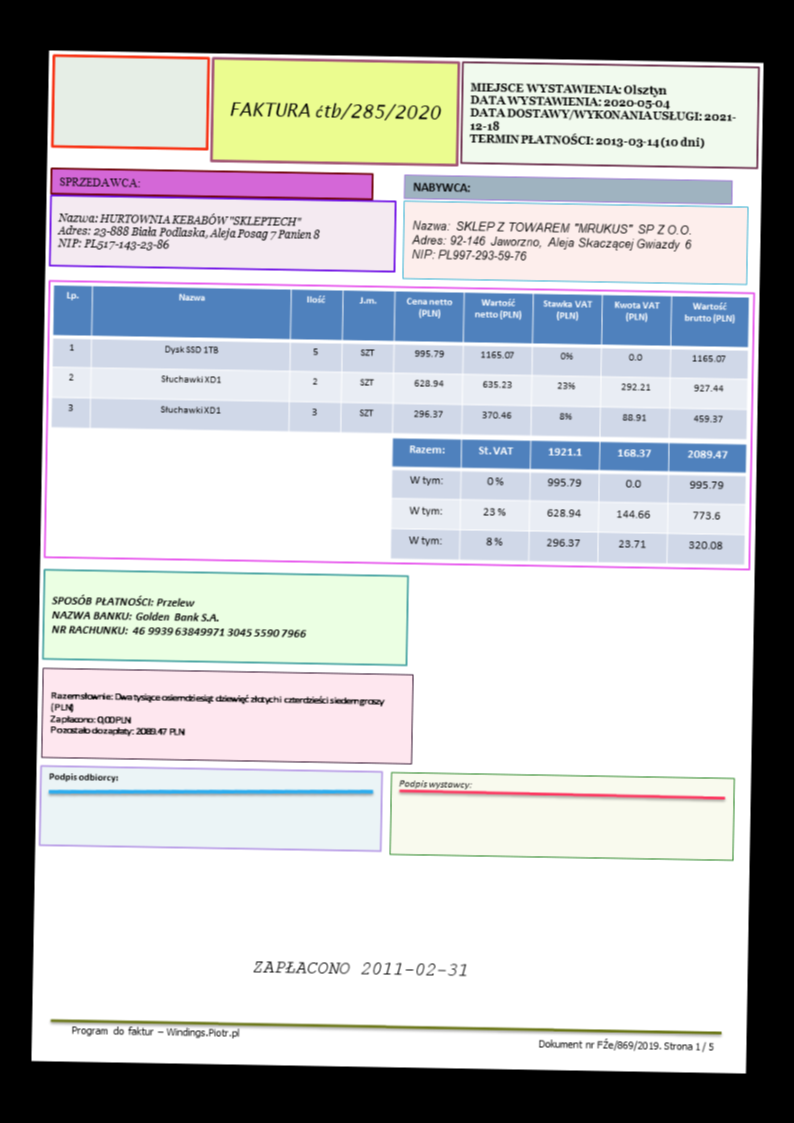Table: (49, 284, 748, 440), (388, 436, 747, 565)
TextBox: (467, 80, 737, 150), (47, 688, 387, 741), (409, 217, 694, 266), (49, 592, 308, 640), (55, 209, 319, 255), (227, 96, 442, 124), (251, 958, 469, 980), (535, 1035, 715, 1057), (68, 1023, 240, 1041), (56, 174, 142, 190), (45, 770, 122, 785), (397, 778, 472, 791), (411, 180, 471, 196)
